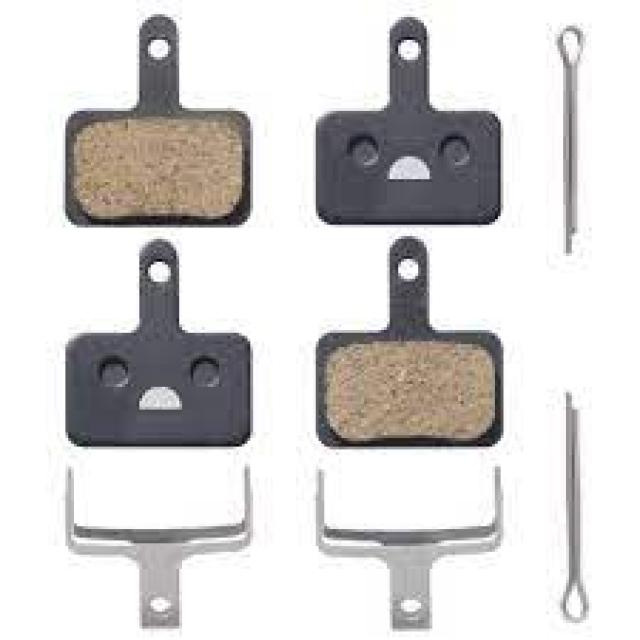brake_pad: (51, 245, 273, 455), (56, 12, 265, 233), (308, 10, 508, 230), (308, 238, 509, 451)
